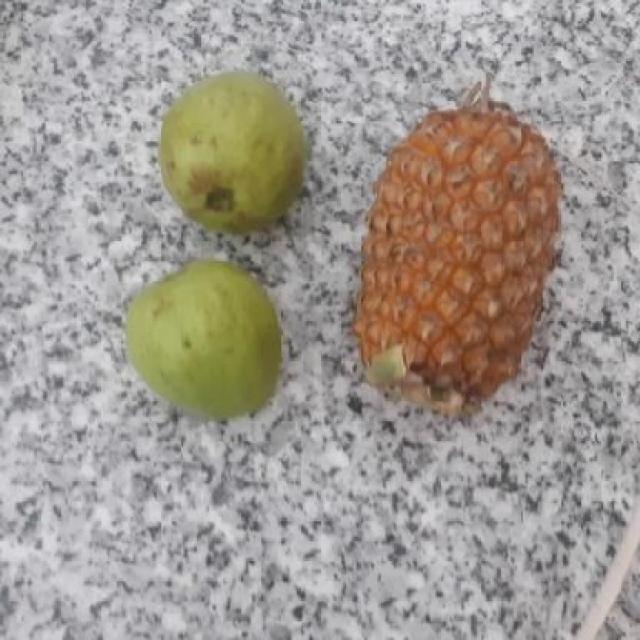guava: (119, 263, 283, 417), (148, 73, 304, 230)
pineapple: (352, 97, 558, 414)
